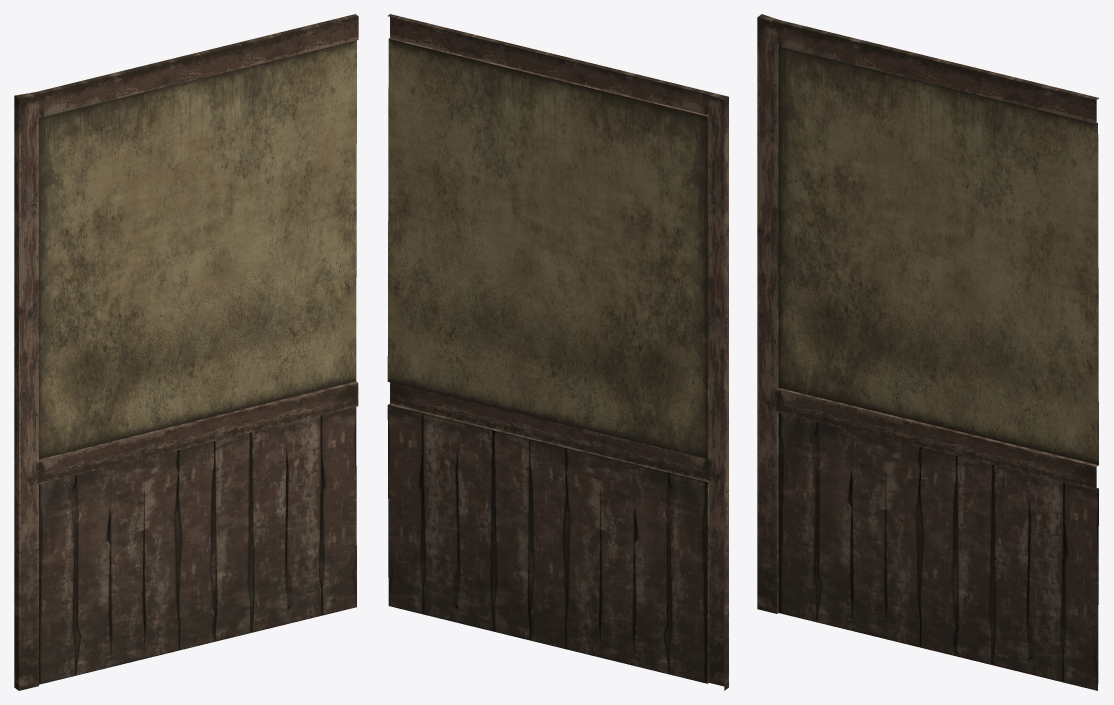
The model's file is ReWall.fbx.
3 renders of one model, left to right at view 1: azimuth 30°, elevation 25°; view 2: azimuth 150°, elevation 25°; view 3: azimuth 330°, elevation 25°, orthographic.
Parts seen in each view (by area): view 1: Wall; view 2: Wall; view 3: Wall.
Part boxes in pixels (bbox=[...]): Wall: bbox=[14, 14, 358, 690]; Wall: bbox=[387, 14, 728, 690]; Wall: bbox=[757, 14, 1098, 690].
Bounding box in the file's own units: 300 × 500 × 7.
